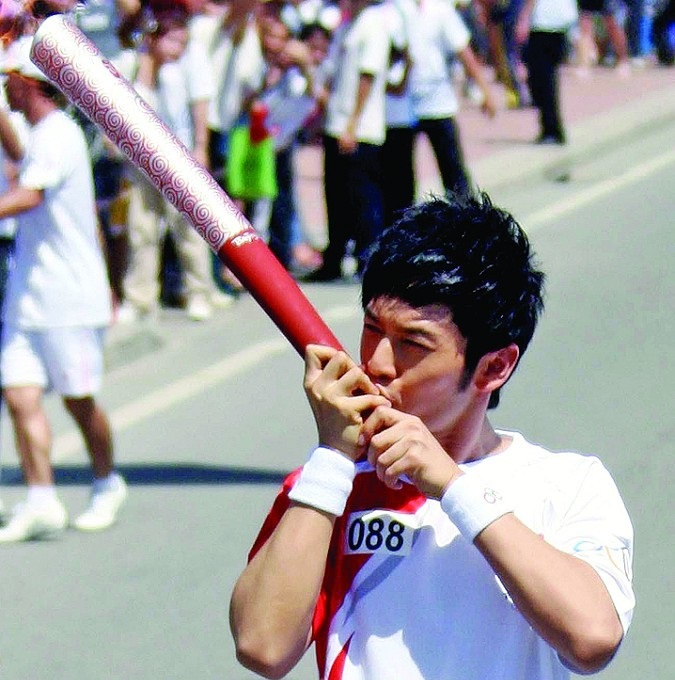face: (355, 275, 467, 440)
